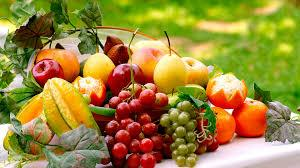Organic: (1, 2, 300, 168)
